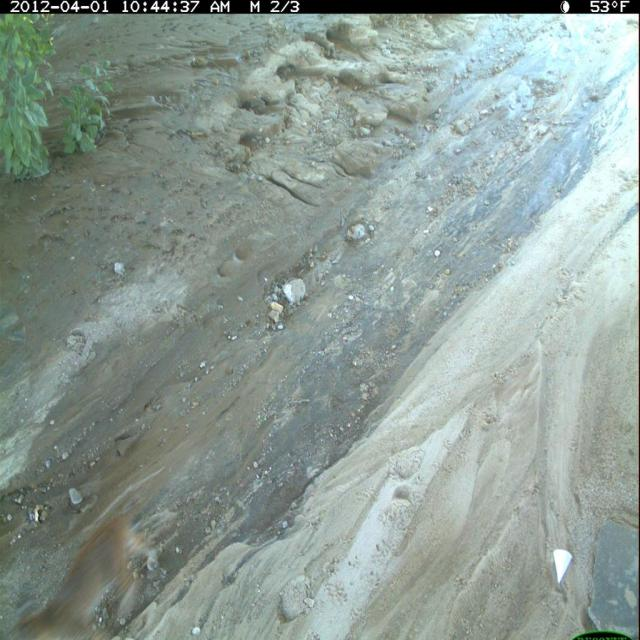bobcat: (6, 506, 161, 640)
